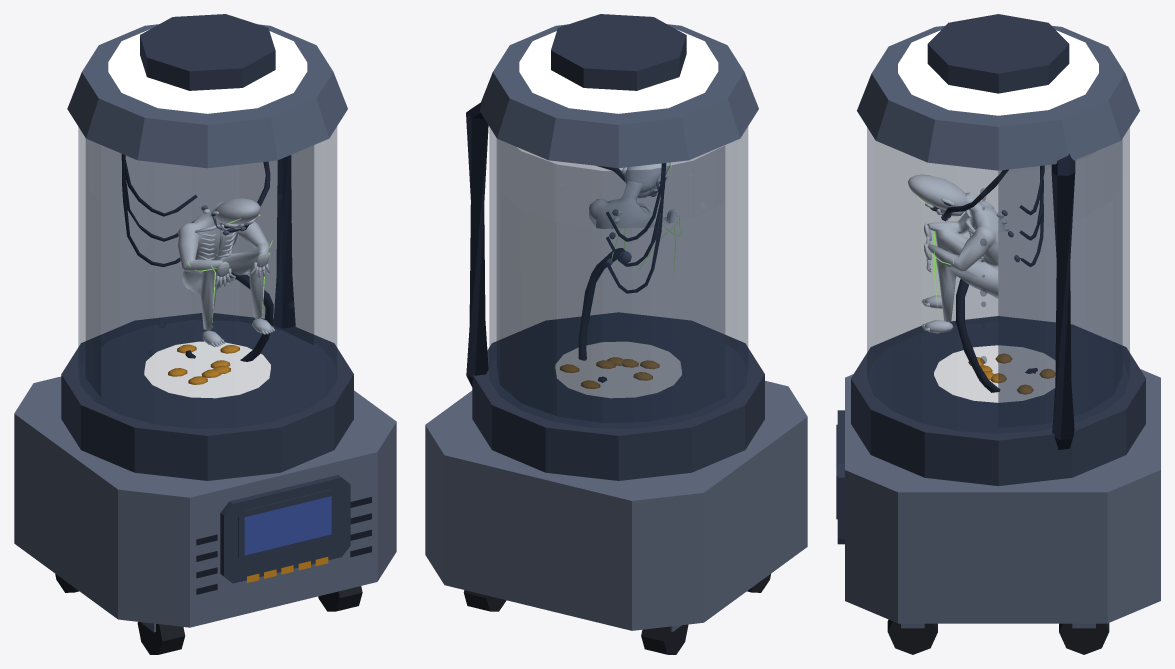
File: lab_cocoon_incubator.glb
3 views of the same model, side by side, from view 1: azimuth 30°, elevation 25°; view 2: azimuth 150°, elevation 25°; view 3: azimuth 270°, elevation 25° (orthographic).
Visible parts, largest first — view 1: bubble, closed_eyelid, cart, abdominal_socket, flange, articulated_digit, feed, print, castor, keys; view 2: bubble, cart, closed_eyelid, abdominal_socket, flange, feed, articulated_digit, castor, keys; view 3: bubble, cart, closed_eyelid, abdominal_socket, flange, articulated_digit, feed, castor, keys.
Boxes of the visible parts, box(x1,y1,x2,y2) form: bubble: box(78, 127, 336, 428); closed_eyelid: box(61, 14, 353, 583); cart: box(14, 376, 396, 627); abdominal_socket: box(67, 24, 347, 632); flange: box(108, 29, 307, 398); articulated_digit: box(177, 198, 274, 346); feed: box(121, 154, 371, 594); print: box(244, 496, 331, 555); castor: box(55, 226, 362, 654); keys: box(168, 344, 328, 582); bubble: box(489, 127, 747, 428); cart: box(425, 380, 807, 630); closed_eyelid: box(472, 14, 764, 480); abdominal_socket: box(480, 24, 758, 632); flange: box(519, 29, 718, 397); feed: box(466, 102, 666, 386); articulated_digit: box(589, 162, 679, 228); castor: box(463, 178, 770, 654); keys: box(560, 357, 659, 388); bubble: box(867, 127, 1129, 433); cart: box(845, 369, 1160, 623); closed_eyelid: box(836, 14, 1145, 544); abdominal_socket: box(857, 26, 1139, 628); flange: box(898, 30, 1098, 402); articulated_digit: box(908, 174, 1008, 333); feed: box(941, 153, 1075, 449); castor: box(887, 206, 1109, 654); keys: box(968, 353, 1055, 394).
Size of the model in its own units: 1.1 by 2.1 by 1.1.
